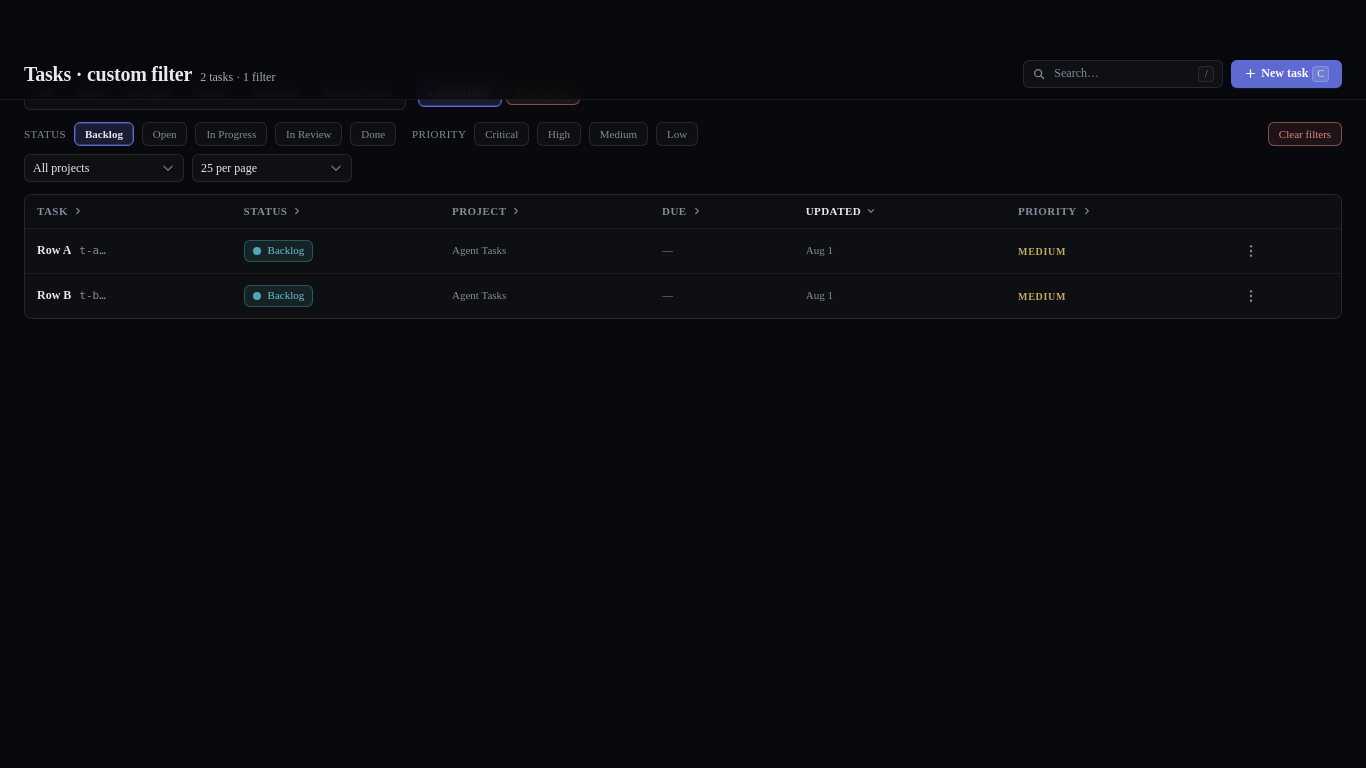
Test: /tasks row action dropping its row: focus recovery › a failed Discard leaves no pending recovery behind
Click the button named "Actions for Row A" at x=1251, y=251, box [1237,237,1265,265]
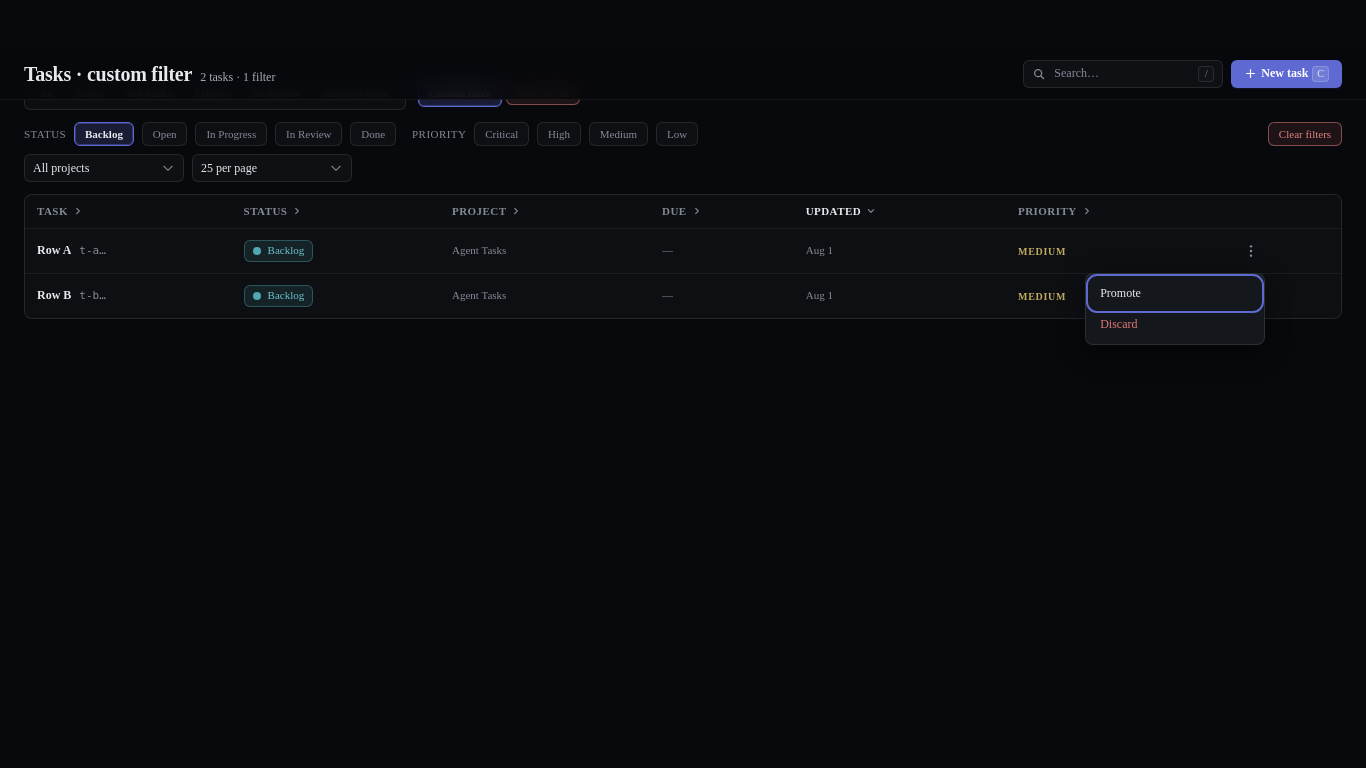
Click the menu item "Discard" at x=1175, y=324, box [1090,309,1260,340]
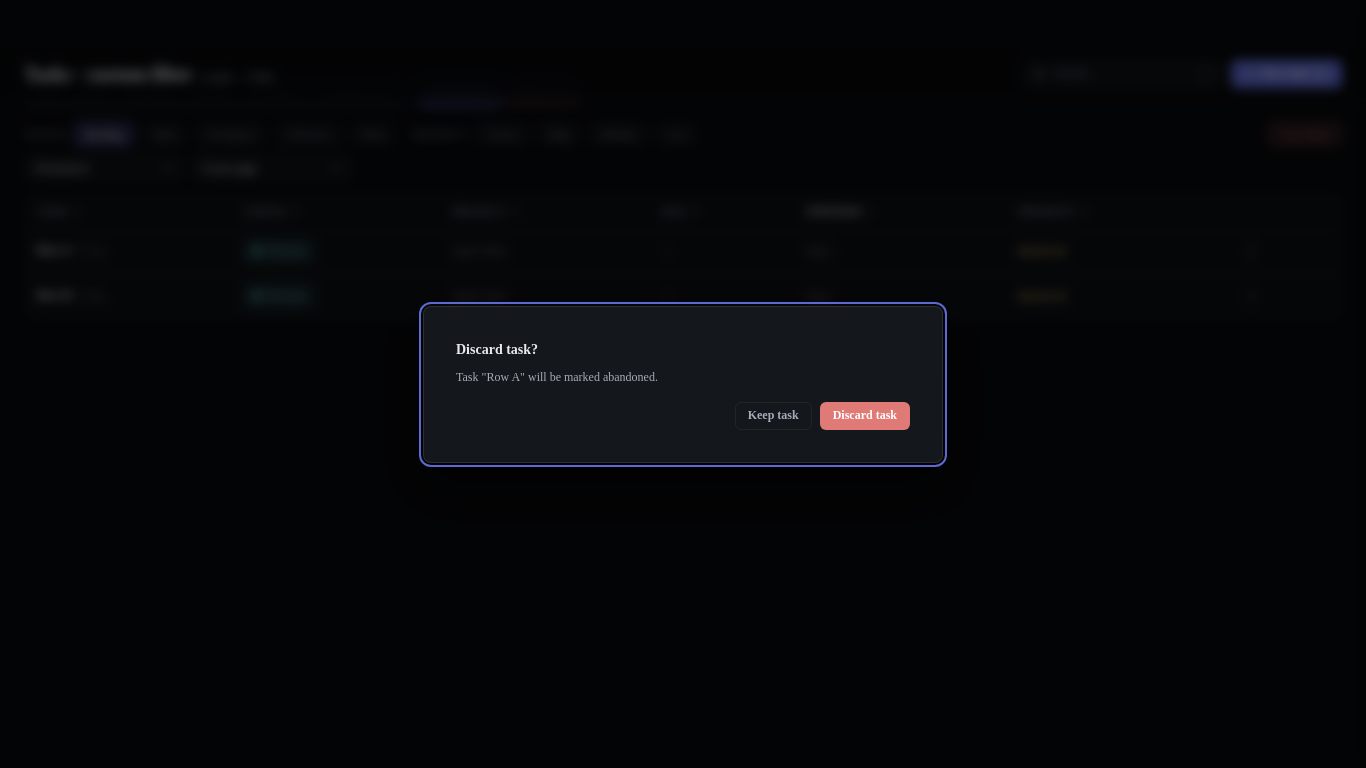
Click the button "Discard task" at x=865, y=416, box [820,402,910,430]
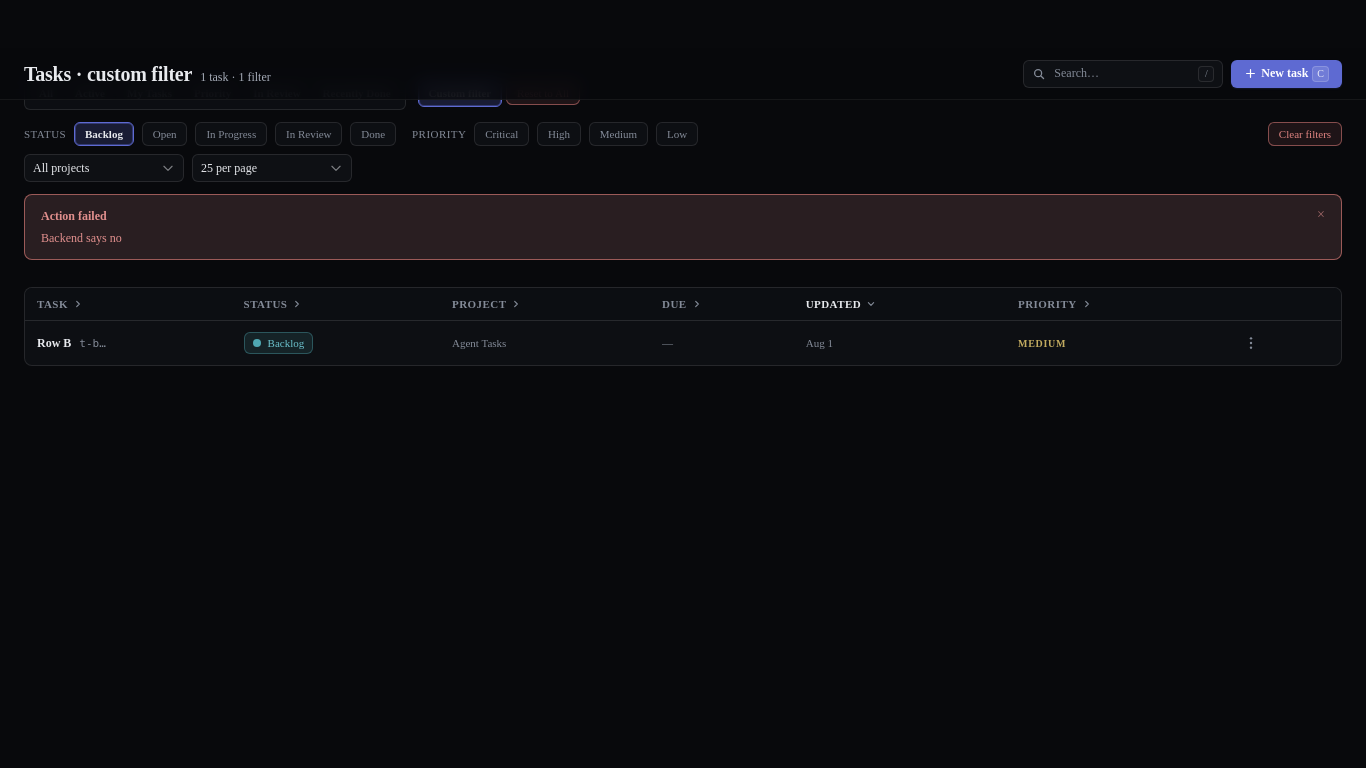
Expected: the text "Action failed" is shown, [41,209,107,223]
